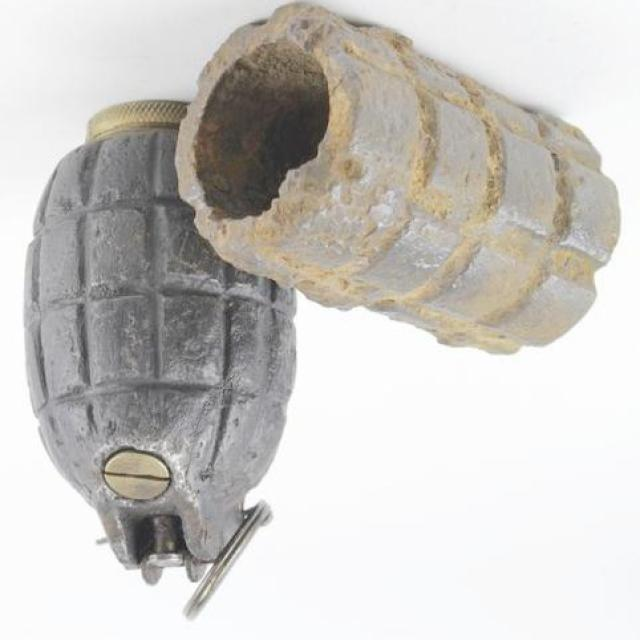grenade: (21, 99, 300, 624)
